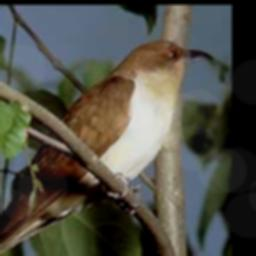Cuckoo: (0, 36, 216, 256)
